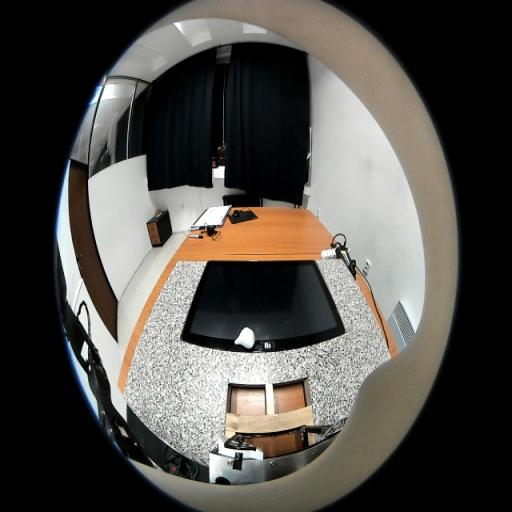Onion: (235, 326, 255, 349)
